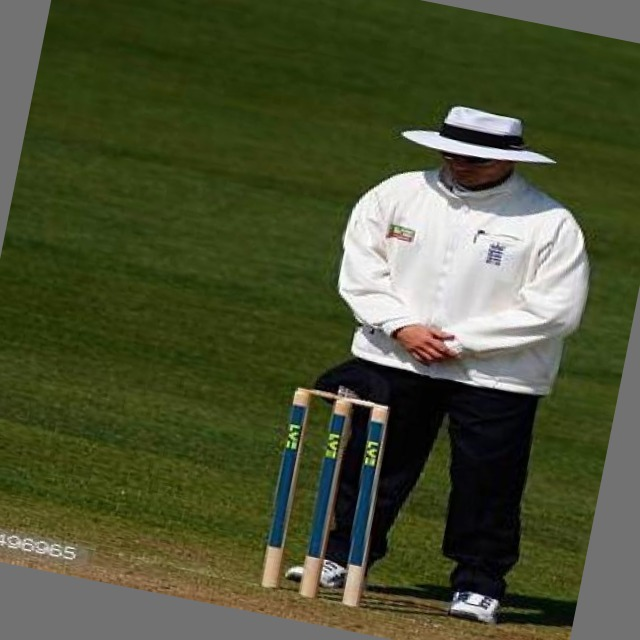No_Action: (259, 72, 630, 640)
